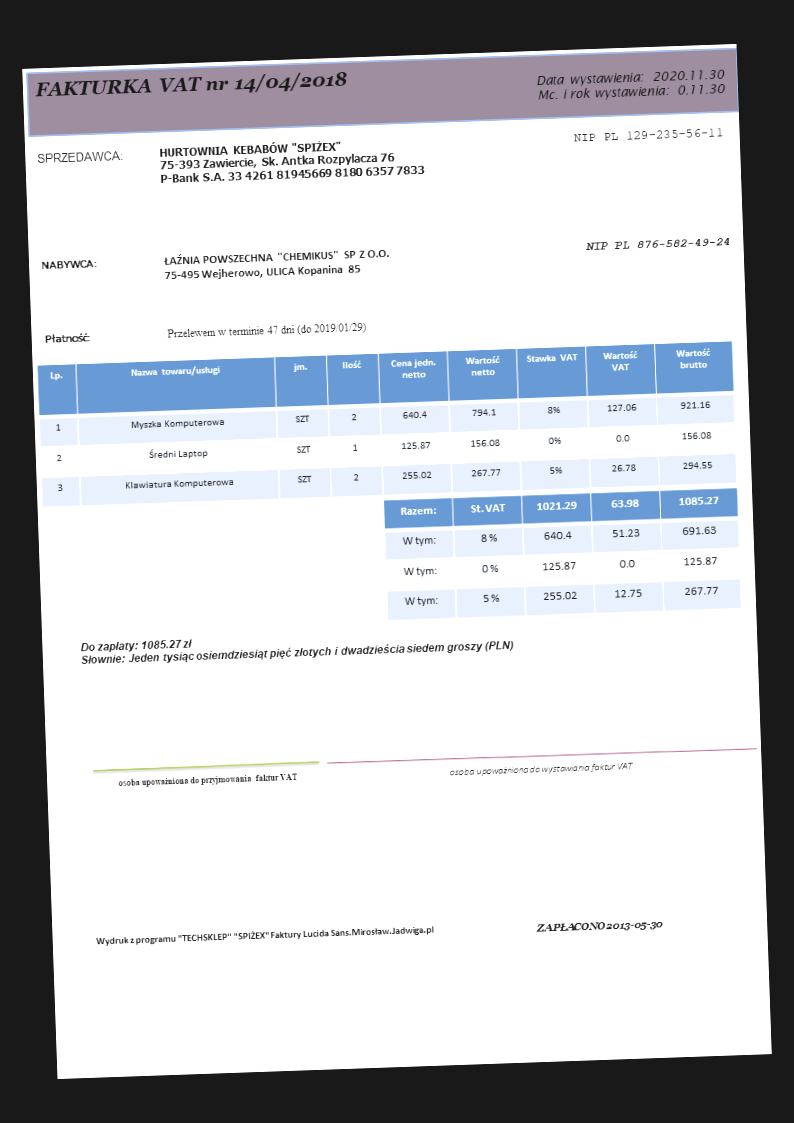Table: (34, 339, 739, 507), (381, 487, 742, 622)
TextBox: (77, 624, 516, 670), (157, 137, 426, 188), (32, 66, 352, 105), (92, 922, 437, 949), (160, 246, 392, 283), (533, 66, 730, 103), (165, 319, 369, 341), (113, 770, 300, 791), (446, 759, 634, 778), (583, 233, 731, 255), (570, 125, 725, 146), (533, 916, 666, 937), (34, 146, 125, 166), (37, 256, 98, 272), (40, 330, 93, 347)
